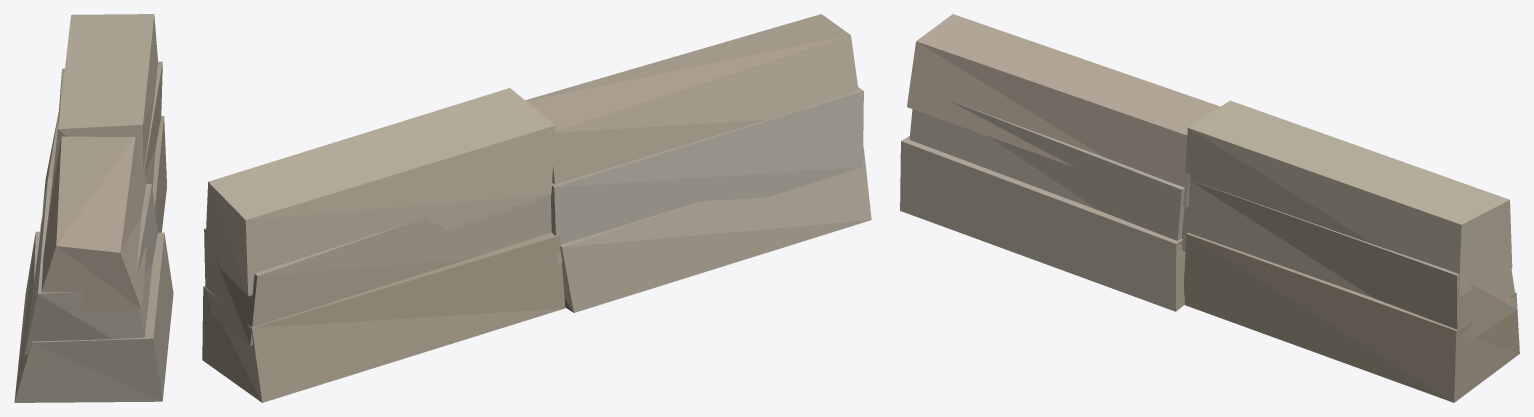
Rendered from farm_9_13_mid.glb.
3 views of the same model, side by side, from view 1: azimuth 30°, elevation 25°; view 2: azimuth 150°, elevation 25°; view 3: azimuth 270°, elevation 25° (orthographic). The views are drawn at different scales.
Parts seen in each view (by area): view 1: geometry_0; view 2: geometry_0; view 3: geometry_0.
Boxes of the visible parts, box(x1,y1,x2,y2) form: geometry_0: box(14, 14, 173, 402); geometry_0: box(202, 14, 871, 402); geometry_0: box(900, 14, 1519, 402).
Bounding box in the file's own units: 2.23 × 1.15 × 3.05.
